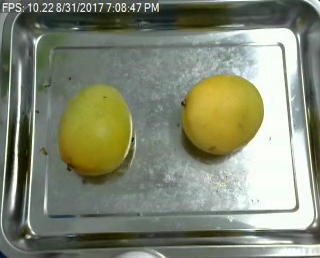Mango: (55, 82, 132, 177), (179, 72, 265, 153)
